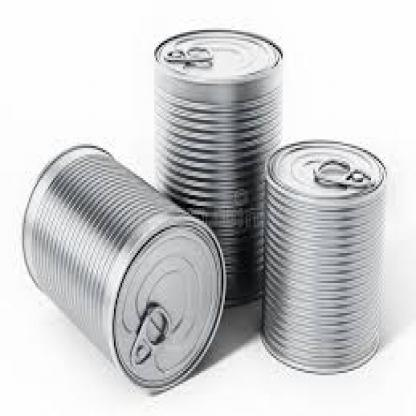METAL: (20, 142, 226, 394), (151, 28, 281, 307), (257, 135, 384, 373)
